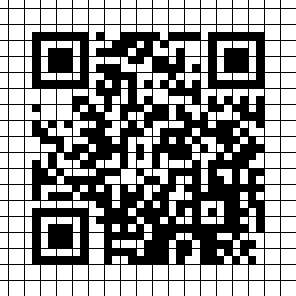QR_CODE: (22, 23, 272, 270)
